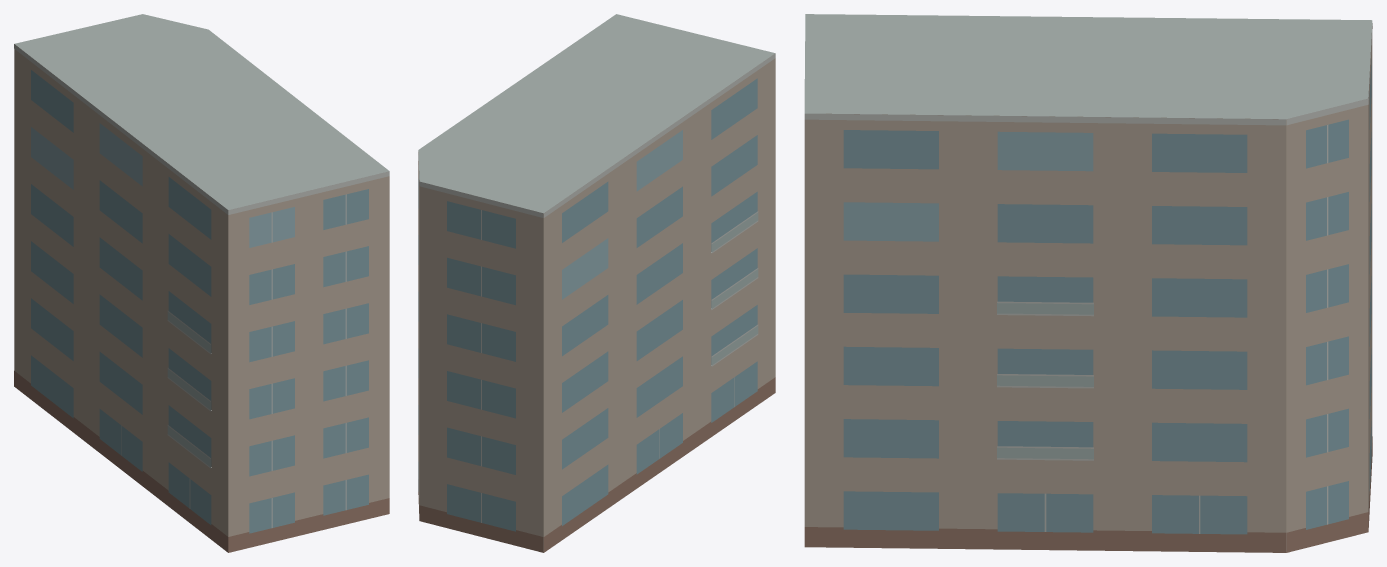
Rendered from survey-upis-32819589.glb.
The picture shows the model from 3 angles, left to right: view 1: azimuth 30°, elevation 25°; view 2: azimuth 150°, elevation 25°; view 3: azimuth 270°, elevation 25°; orthographic projection. The views are drawn at different scales.
Parts seen in each view (by area): view 1: survey-upis-32819589.tmp; view 2: survey-upis-32819589.tmp; view 3: survey-upis-32819589.tmp.
Part boxes in pixels (x1=…): survey-upis-32819589.tmp: x1=14, y1=14, x2=389, y2=552; survey-upis-32819589.tmp: x1=418, y1=14, x2=775, y2=552; survey-upis-32819589.tmp: x1=804, y1=14, x2=1372, y2=552.
Size of the model in its own units: 8.91 by 17.1 by 20.31.
